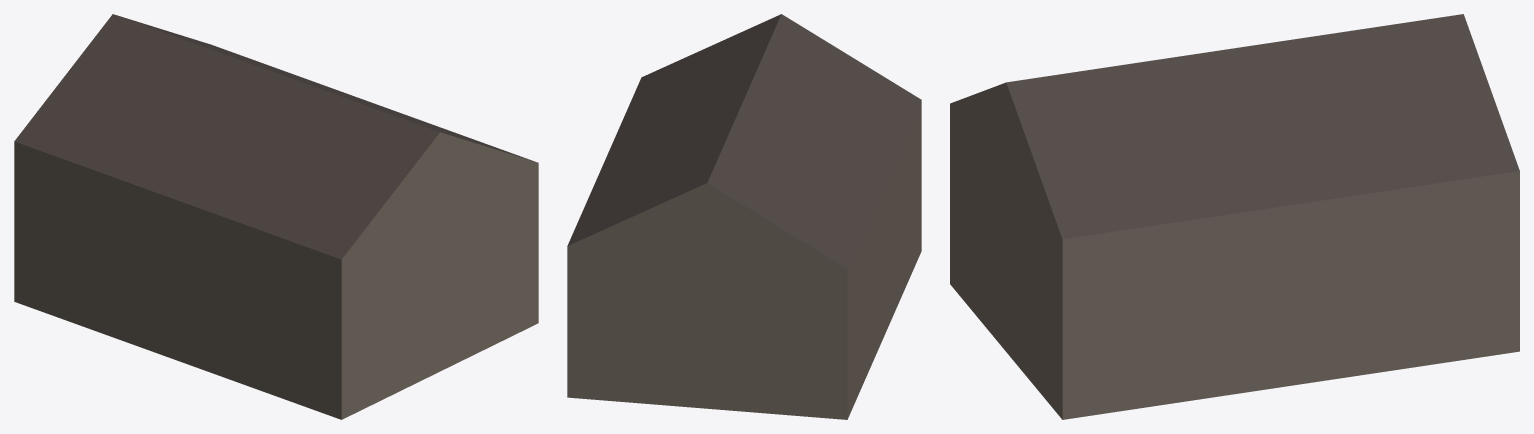
3 renders of one model, left to right at view 1: azimuth 30°, elevation 25°; view 2: azimuth 150°, elevation 25°; view 3: azimuth 270°, elevation 25°, orthographic. The views are drawn at different scales.
Visible parts, largest first — view 1: HP-w1198893540; view 2: HP-w1198893540; view 3: HP-w1198893540.
Boxes of the visible parts, <box> form: HP-w1198893540: <box>14,14,538,419</box>; HP-w1198893540: <box>567,14,921,419</box>; HP-w1198893540: <box>950,14,1519,419</box>.
Bounding box in the file's own units: 21.82 × 13.44 × 25.73.
